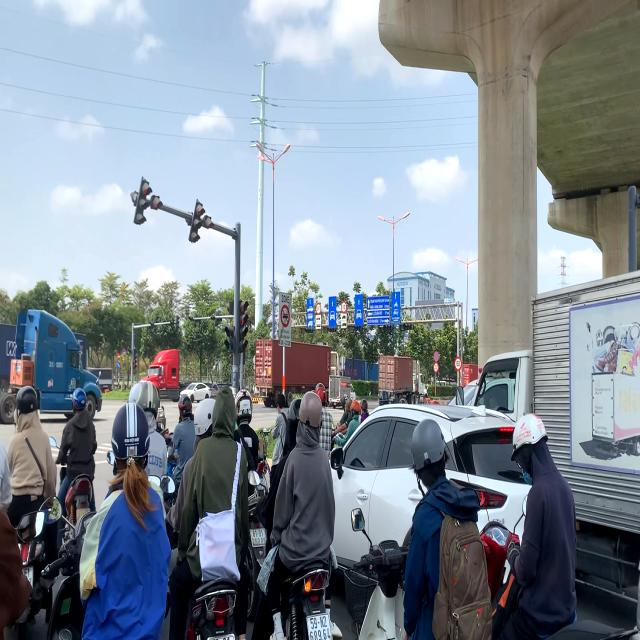P.102: (117, 352, 121, 360)
P.127: (453, 356, 462, 371), (341, 300, 347, 313), (316, 303, 322, 315)
P.130: (434, 350, 439, 362)
R.302a: (117, 361, 121, 370)
